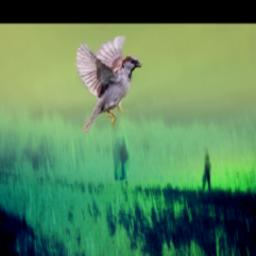Sparrow: (75, 37, 143, 134)
